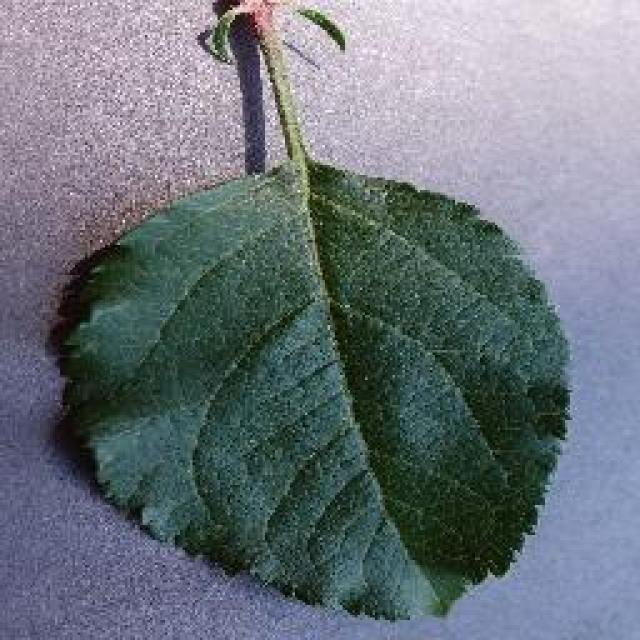apple scab disease: (47, 0, 574, 622)
